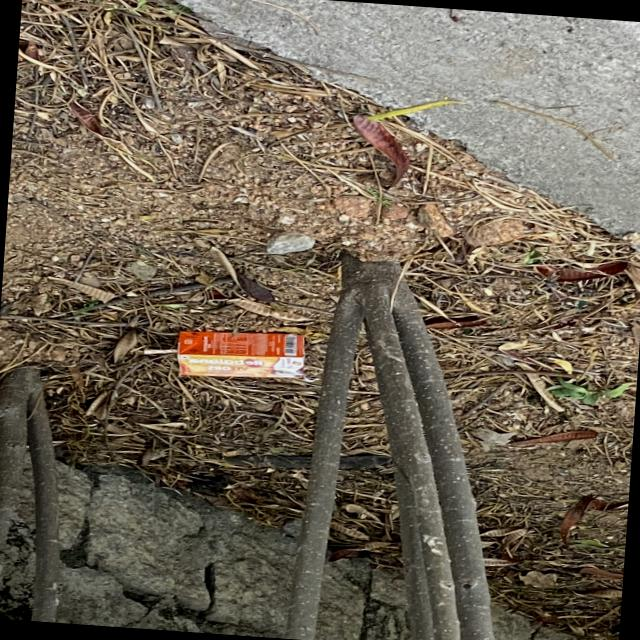ly_hop_giay: (176, 331, 304, 378)
